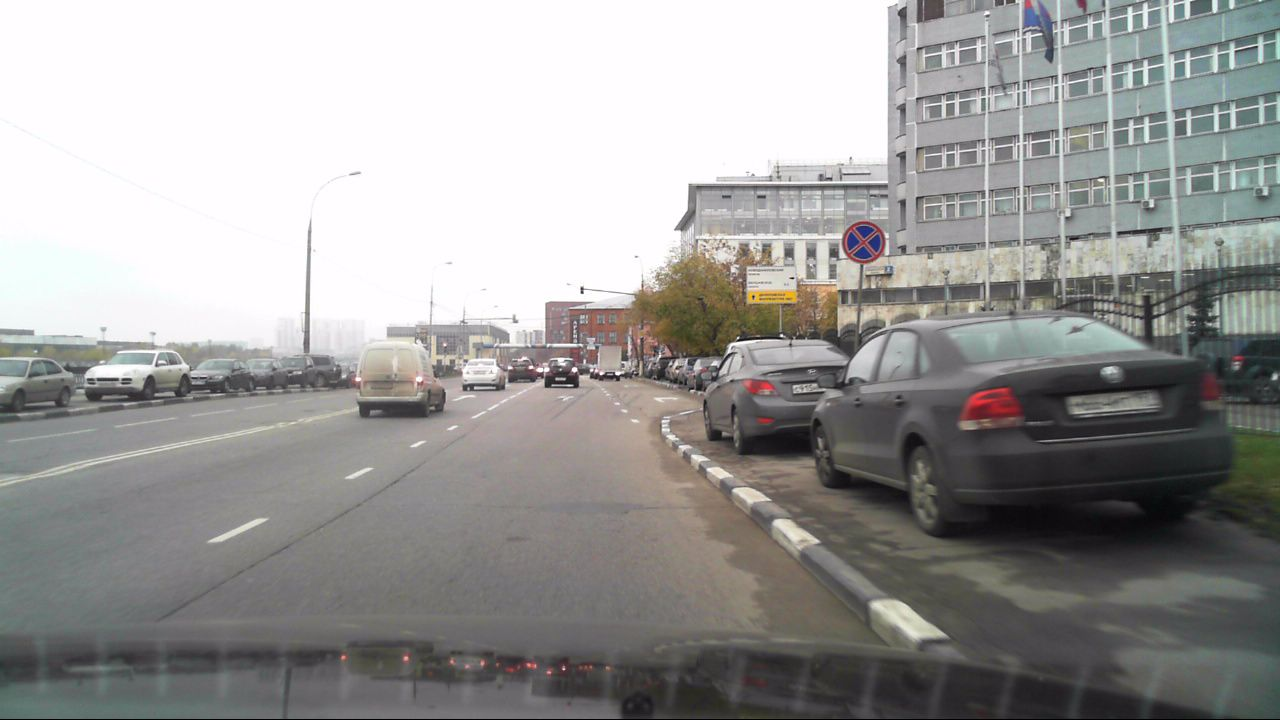No Parking: (842, 222, 885, 263)
